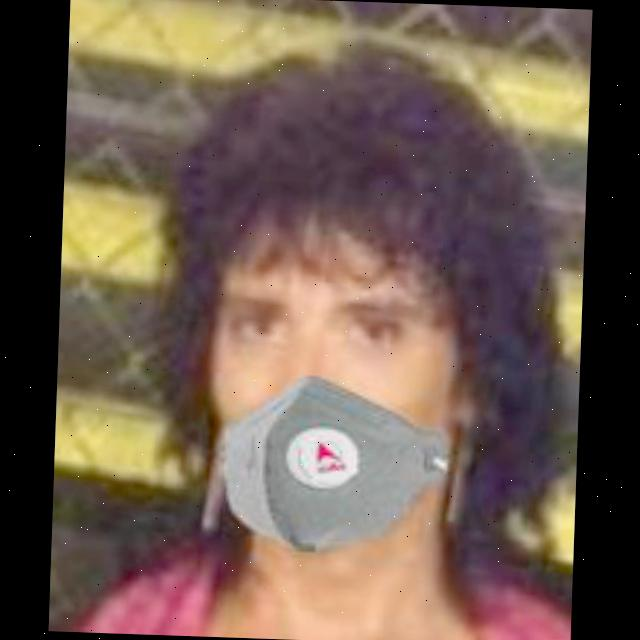suspicion: (190, 90, 531, 573)
